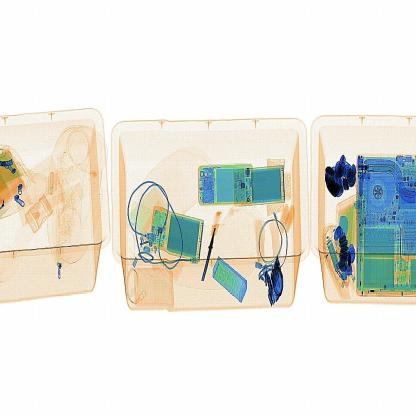gun: (201, 211, 218, 287)
